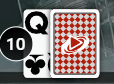q: (22, 8, 51, 37)
